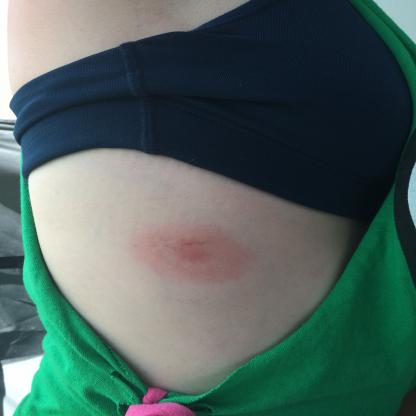Tick: (128, 219, 266, 287)
